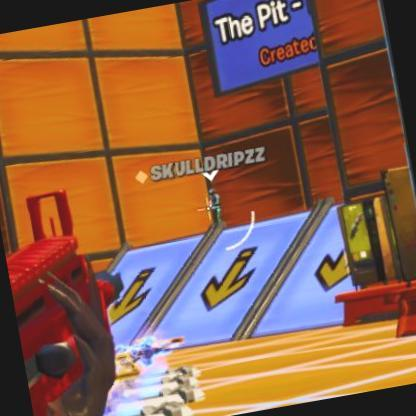person: (203, 182, 224, 224)
